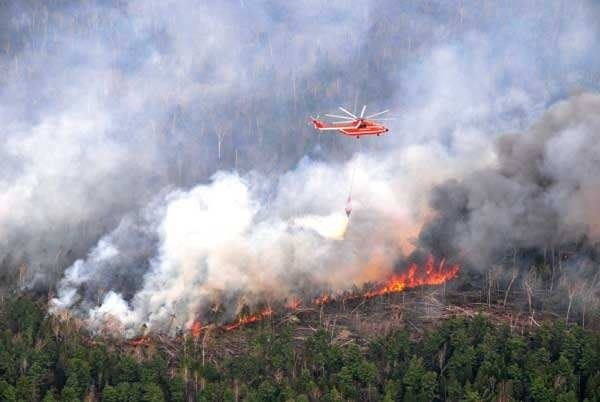fire: (366, 253, 461, 293)
